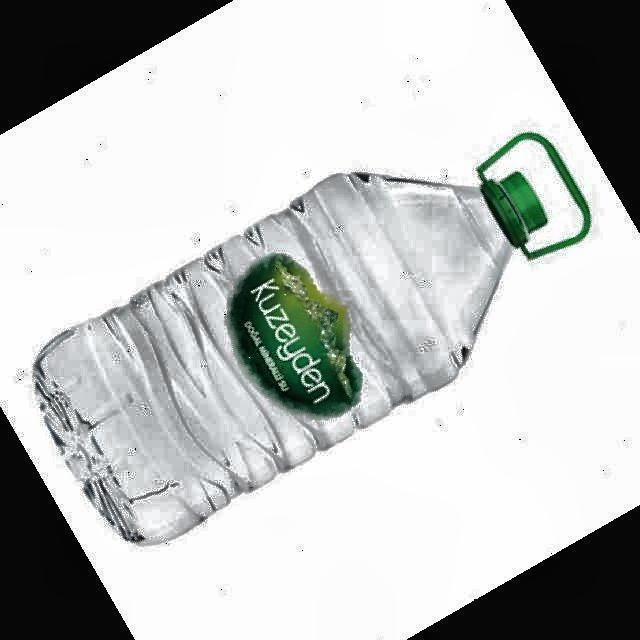plastic: (34, 132, 591, 543)
